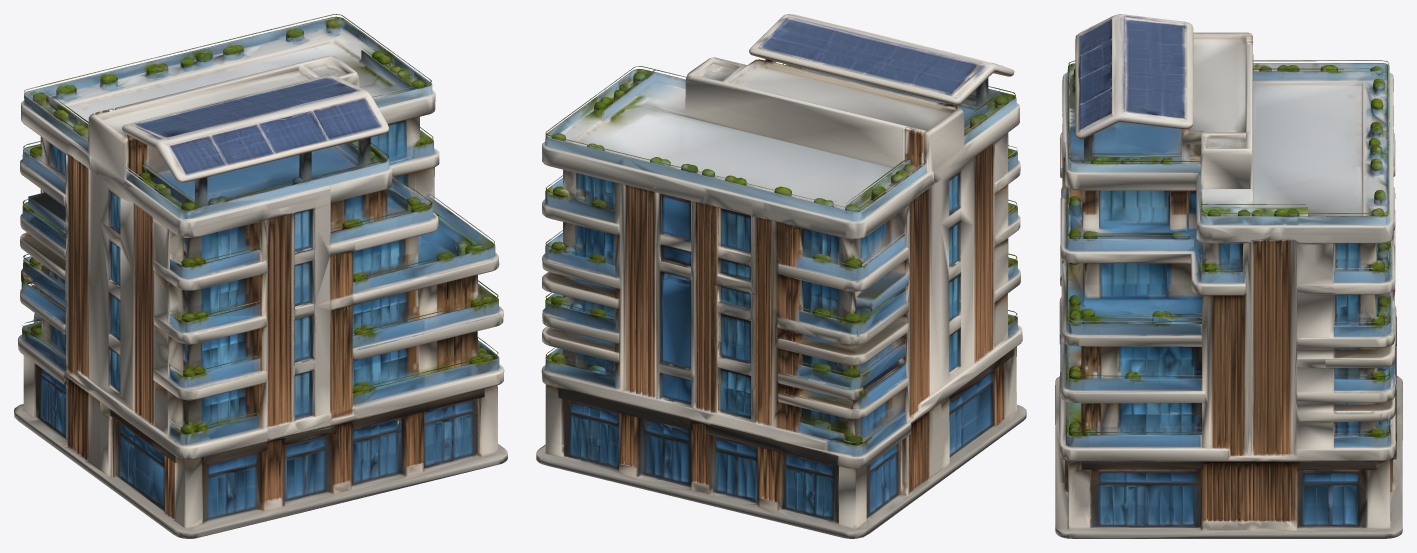
File: passiona-sunstack-mixed-use.glb
The picture shows the model from 3 angles, left to right: view 1: azimuth 30°, elevation 25°; view 2: azimuth 150°, elevation 25°; view 3: azimuth 270°, elevation 25°; orthographic projection.
Parts seen in each view (by area): view 1: node_0; view 2: node_0; view 3: node_0.
Part boxes in pixels (left/top/right/bottom): node_0: left=14, top=14, right=507, bottom=538; node_0: left=536, top=14, right=1026, bottom=538; node_0: left=1055, top=14, right=1402, bottom=538.
Bounding box in the file's own units: 0.7067 × 0.7617 × 0.6492.
1 material, 1 textured.
